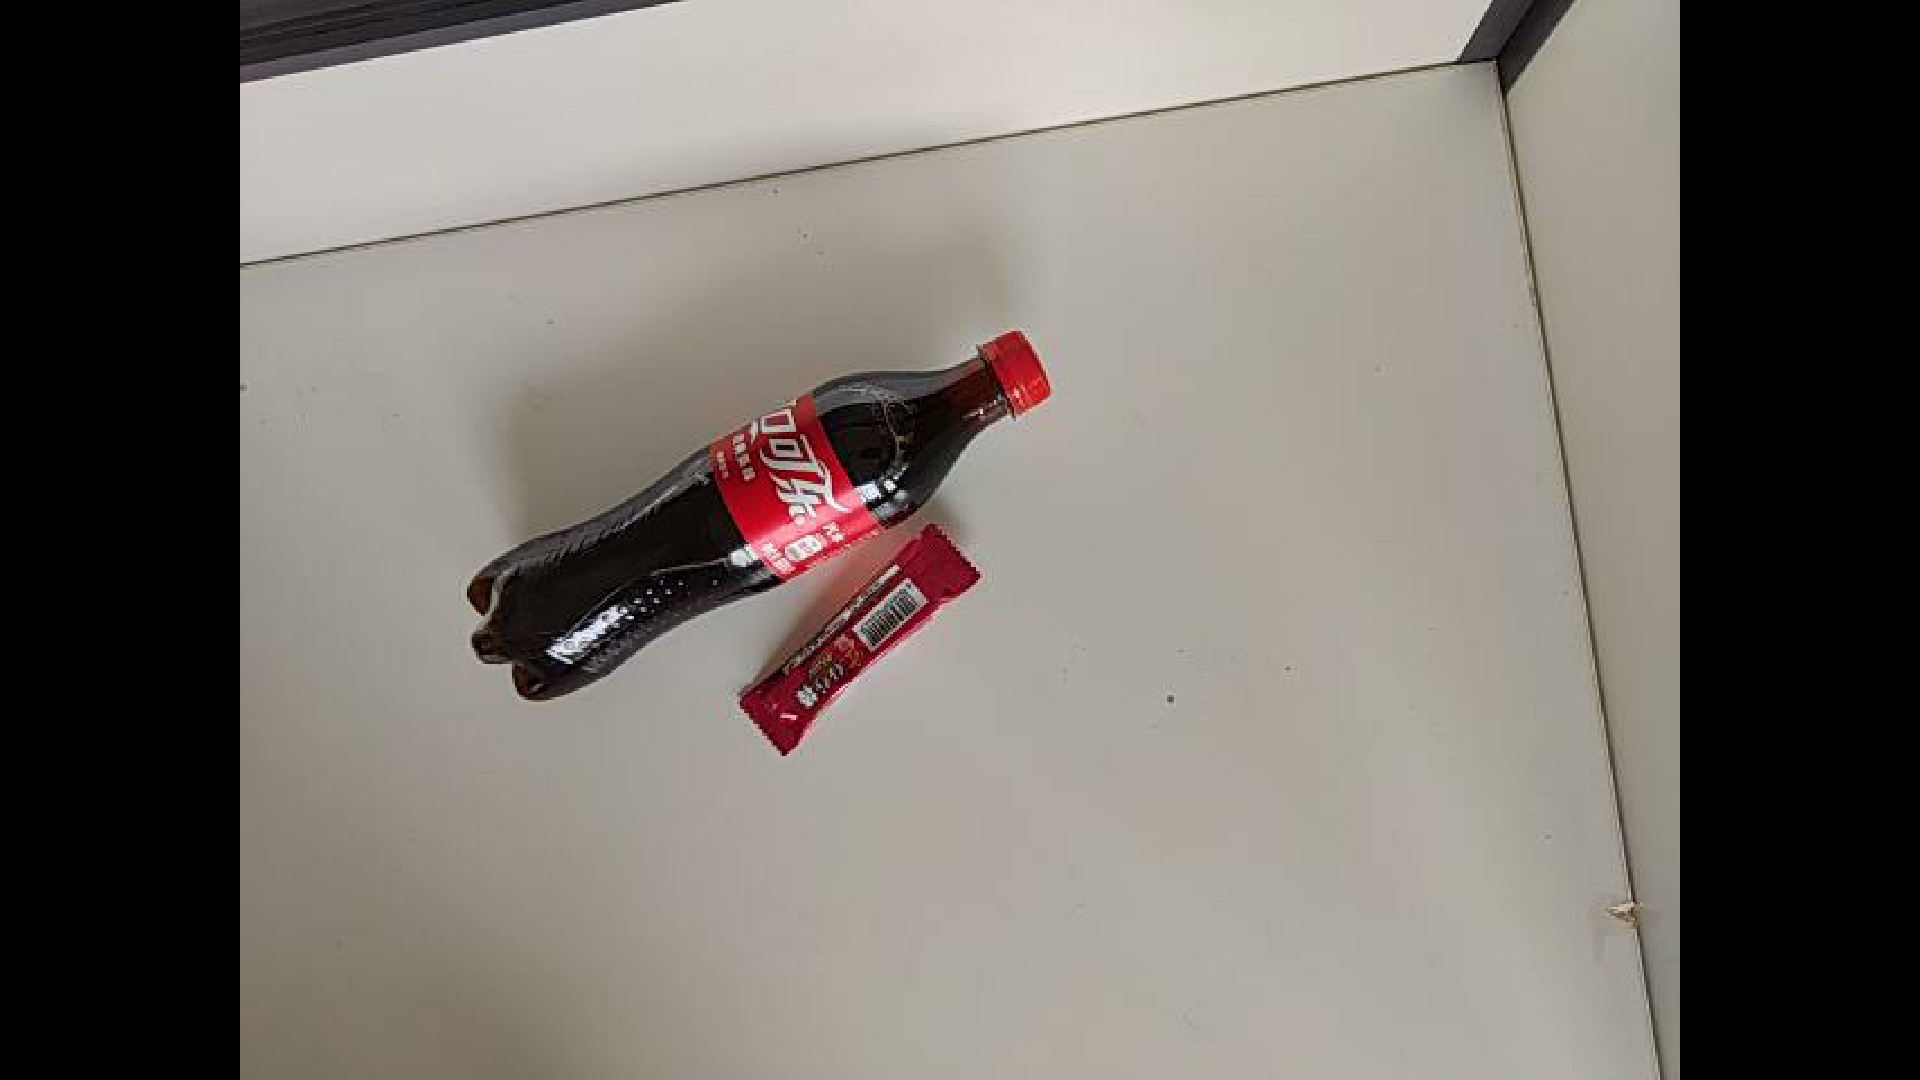cola: (435, 415, 1142, 733)
sugar: (686, 516, 989, 680)
